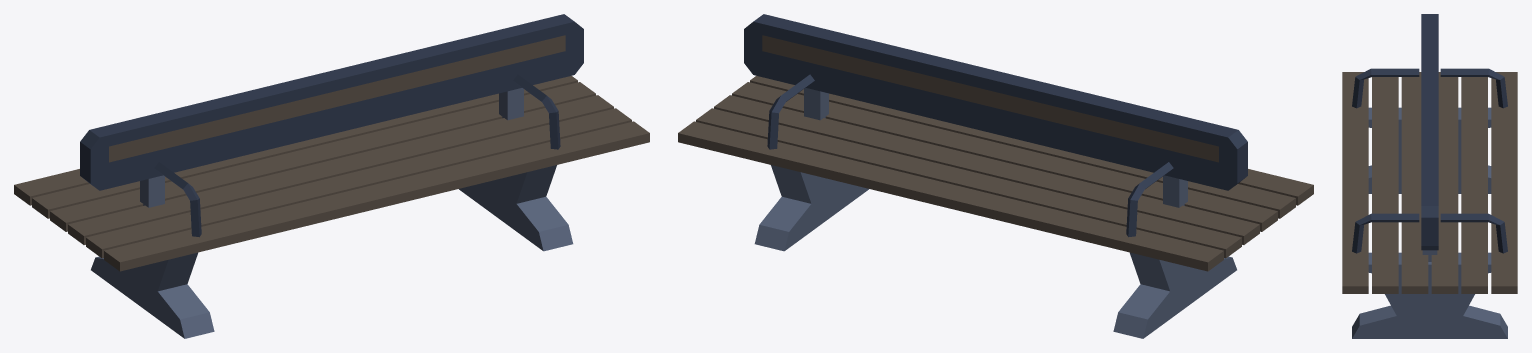
The model's file is mall_bench.glb.
3 views of the same model, side by side, from view 1: azimuth 30°, elevation 25°; view 2: azimuth 150°, elevation 25°; view 3: azimuth 270°, elevation 25° (orthographic). The views are drawn at different scales.
Visible parts, largest first — view 1: backrest_inlay, armrest, backrest_spine; view 2: backrest_inlay, armrest, backrest_spine; view 3: backrest_inlay, armrest, backrest_spine.
Boxes of the visible parts, <box> form: backrest_inlay: <box>14,35,649,271</box>; armrest: <box>80,14,583,237</box>; backrest_spine: <box>91,88,573,338</box>; backrest_inlay: <box>678,35,1313,271</box>; armrest: <box>744,14,1247,237</box>; backrest_spine: <box>754,88,1236,338</box>; backrest_inlay: <box>1342,72,1517,293</box>; armrest: <box>1352,14,1507,253</box>; backrest_spine: <box>1352,107,1507,338</box>.
Bounding box in the file's own units: 2.6 × 0.85 × 0.9.
